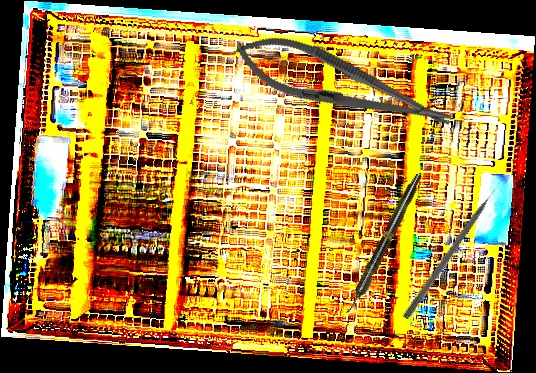Handpiece: (342, 171, 425, 317)
Needle Holder: (227, 20, 460, 150)
Pusher: (402, 178, 506, 321)
